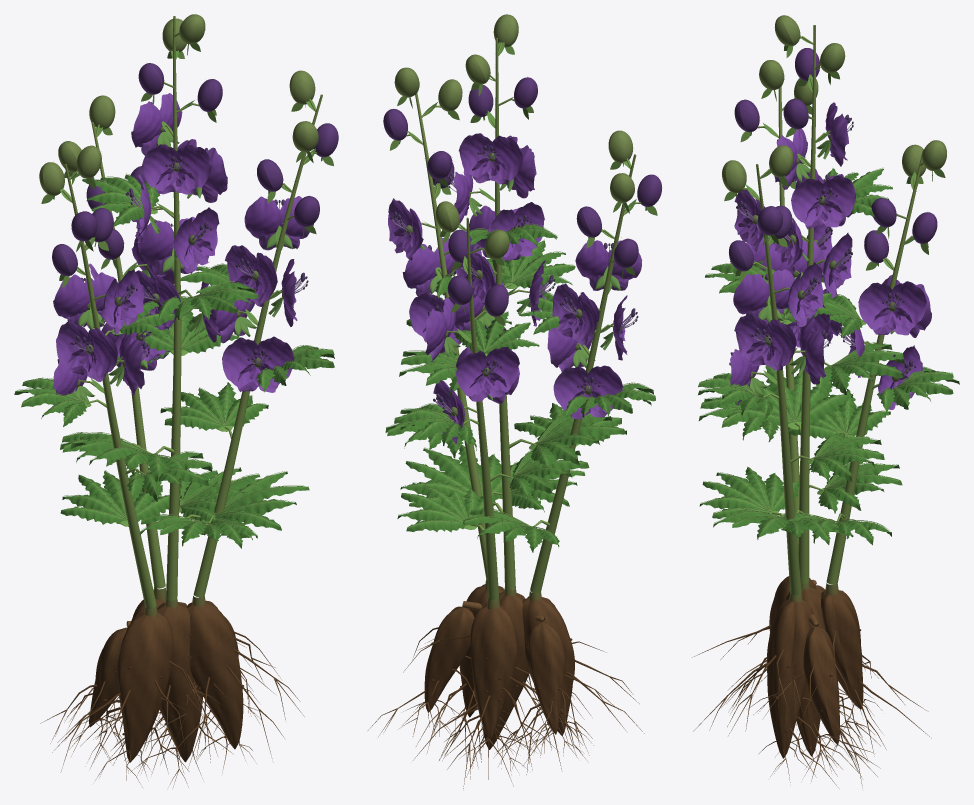
File: xue_model.glb
The picture shows the model from 3 angles, left to right: view 1: azimuth 30°, elevation 25°; view 2: azimuth 150°, elevation 25°; view 3: azimuth 270°, elevation 25°; orthographic projection. The views are drawn at different scales.
Parts seen in each view (by area): view 1: leaf, petal, root, stem, bud, vein, anther, filament; view 2: leaf, petal, root, bud, stem, vein, anther, filament; view 3: leaf, petal, root, stem, bud, vein, anther, filament.
Part boxes in pixels (x1,y1,x2,y2): leaf: [14, 34, 334, 548]; petal: [53, 93, 313, 412]; root: [40, 587, 304, 787]; stem: [60, 16, 322, 608]; bud: [39, 14, 338, 275]; vein: [16, 173, 332, 542]; anther: [57, 102, 308, 363]; filament: [74, 161, 306, 364]; leaf: [385, 42, 657, 552]; petal: [388, 133, 642, 444]; root: [368, 579, 644, 788]; bud: [383, 14, 661, 316]; stem: [405, 37, 641, 599]; vein: [386, 223, 655, 547]; anther: [390, 145, 638, 409]; filament: [391, 150, 636, 413]; leaf: [698, 36, 959, 545]; petal: [730, 102, 931, 409]; root: [692, 576, 931, 787]; stem: [742, 25, 923, 595]; bud: [722, 15, 946, 271]; vein: [699, 167, 955, 540]; anther: [729, 114, 916, 375]; filament: [738, 123, 914, 378].
Bounding box in the file's own units: 1.52 × 3.84 × 1.23.
